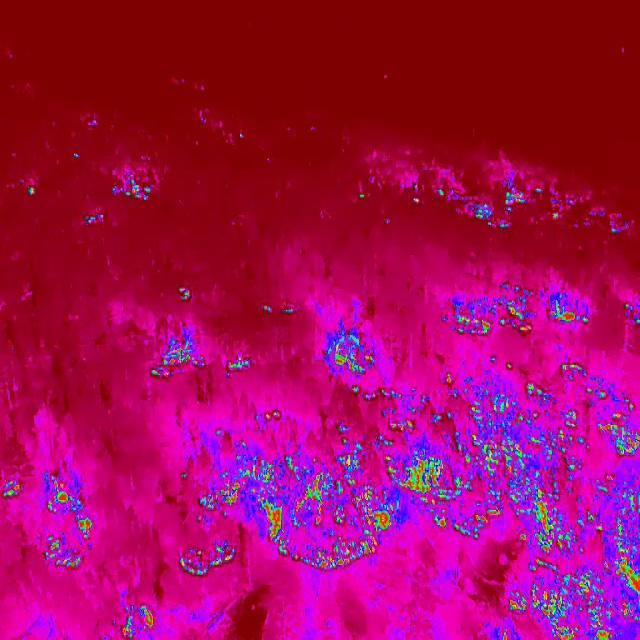fire: (433, 354, 640, 638), (171, 423, 464, 581), (366, 164, 631, 244), (441, 286, 603, 360), (0, 474, 96, 570), (320, 315, 394, 410), (144, 324, 204, 384), (112, 600, 160, 640), (110, 172, 157, 206), (223, 352, 256, 376)
